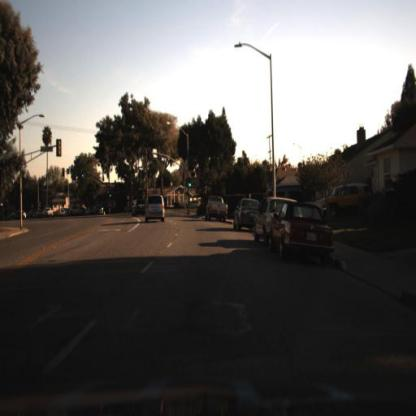car: (273, 198, 338, 276), (268, 199, 336, 262), (322, 183, 375, 219), (251, 198, 282, 247), (254, 191, 277, 252), (202, 190, 231, 230), (233, 197, 256, 236), (232, 199, 253, 235), (145, 194, 166, 225), (131, 197, 147, 228), (119, 194, 134, 221), (131, 196, 146, 217), (65, 205, 81, 221), (43, 205, 56, 218)
trafficLight-Green: (187, 178, 195, 194), (79, 169, 87, 184), (109, 187, 114, 203), (189, 178, 194, 190)
trafficLight-Red: (60, 163, 68, 184)
